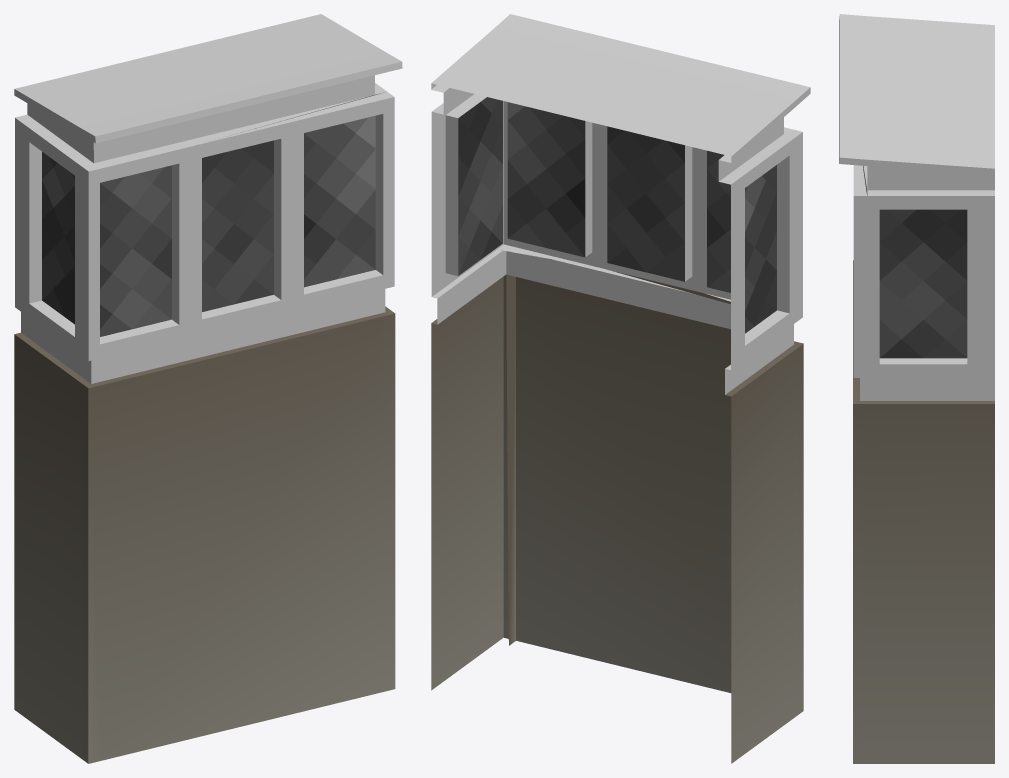
Rendered from Front_6.fbx.
The picture shows the model from 3 angles, left to right: view 1: azimuth 30°, elevation 25°; view 2: azimuth 150°, elevation 25°; view 3: azimuth 270°, elevation 25°; orthographic projection. The views are drawn at different scales.
Visible parts, largest first — view 1: Front_E.001, Front_E.008, Front_E.016, Front_E.006, Front_E.003, Front_E.005, Front_E.010, Front_E.011, Front_E.015, Front_E.004, Front_E.012, Front_E.014 (+2 smaller); view 2: Front_E.001, Front_E.008, Front_E.016, Front_E.006, Front_E.005, Front_E.010, Front_E.015, Front_E.007, Front_E.004, Front_E, Front_E.003, Front_E.011 (+2 smaller); view 3: Front_E.001, Front_E.016, Front_E.007, Front_E.008, Front_E.015, Front_E.010, Front_E.011, Front_E.014, Front_E.012, Front_E.002.
Boxes of the visible parts, <box> form: Front_E.001: <box>14,313,395,763</box>; Front_E.008: <box>15,97,394,360</box>; Front_E.016: <box>27,17,373,124</box>; Front_E.006: <box>304,115,375,287</box>; Front_E.003: <box>100,165,171,336</box>; Front_E.005: <box>202,140,273,311</box>; Front_E.010: <box>21,289,385,383</box>; Front_E.011: <box>27,75,374,163</box>; Front_E.015: <box>15,14,401,136</box>; Front_E.004: <box>42,152,74,324</box>; Front_E.012: <box>15,83,393,171</box>; Front_E.014: <box>14,61,402,143</box>; Front_E.001: <box>431,275,803,763</box>; Front_E.008: <box>431,93,802,369</box>; Front_E.016: <box>444,30,782,153</box>; Front_E.006: <box>507,102,585,257</box>; Front_E.005: <box>607,126,684,281</box>; Front_E.010: <box>437,250,793,394</box>; Front_E.015: <box>431,14,810,156</box>; Front_E.007: <box>458,97,502,275</box>; Front_E.004: <box>745,165,776,333</box>; Front_E: <box>501,250,730,645</box>; Front_E.003: <box>707,150,730,292</box>; Front_E.011: <box>443,88,783,181</box>; Front_E.001: <box>853,404,994,763</box>; Front_E.016: <box>868,22,994,162</box>; Front_E.007: <box>879,209,967,358</box>; Front_E.008: <box>853,196,994,377</box>; Front_E.015: <box>839,14,994,168</box>; Front_E.010: <box>860,378,994,400</box>; Front_E.011: <box>867,166,994,190</box>; Front_E.014: <box>839,16,994,174</box>; Front_E.012: <box>853,165,994,195</box>; Front_E.002: <box>853,260,994,403</box>.
Bounding box in the file's own units: 239 × 471 × 110.
